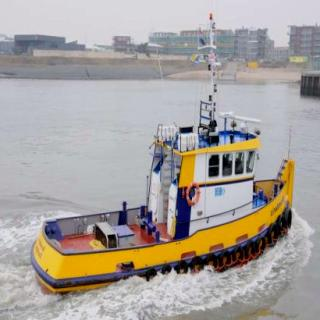Tug Boat: (22, 79, 296, 286)
